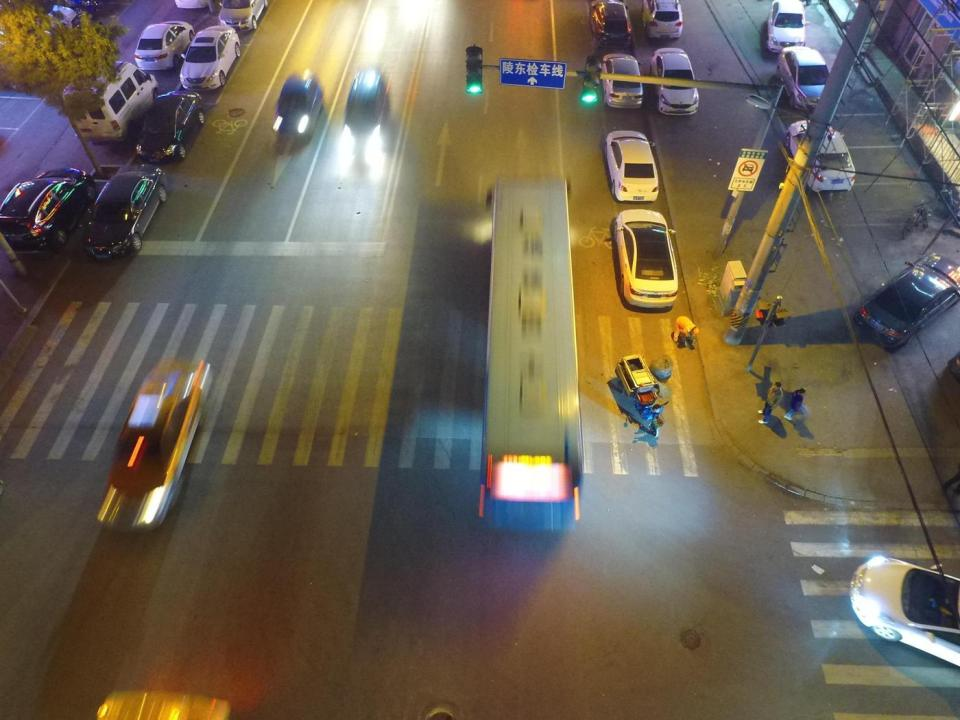bus: (475, 175, 582, 538)
car: (99, 355, 209, 536), (849, 556, 959, 668), (854, 254, 960, 351), (86, 162, 168, 262), (0, 166, 95, 240), (612, 209, 680, 309), (785, 118, 857, 193), (142, 93, 207, 159), (604, 130, 660, 205), (272, 72, 328, 146), (776, 45, 835, 114), (183, 26, 241, 89), (342, 67, 390, 139), (650, 48, 699, 117), (134, 20, 195, 75), (4, 1, 82, 37), (600, 52, 642, 110), (766, 2, 811, 54), (590, 0, 634, 49), (643, 0, 684, 41)
van: (61, 66, 156, 147), (219, 0, 269, 34)
